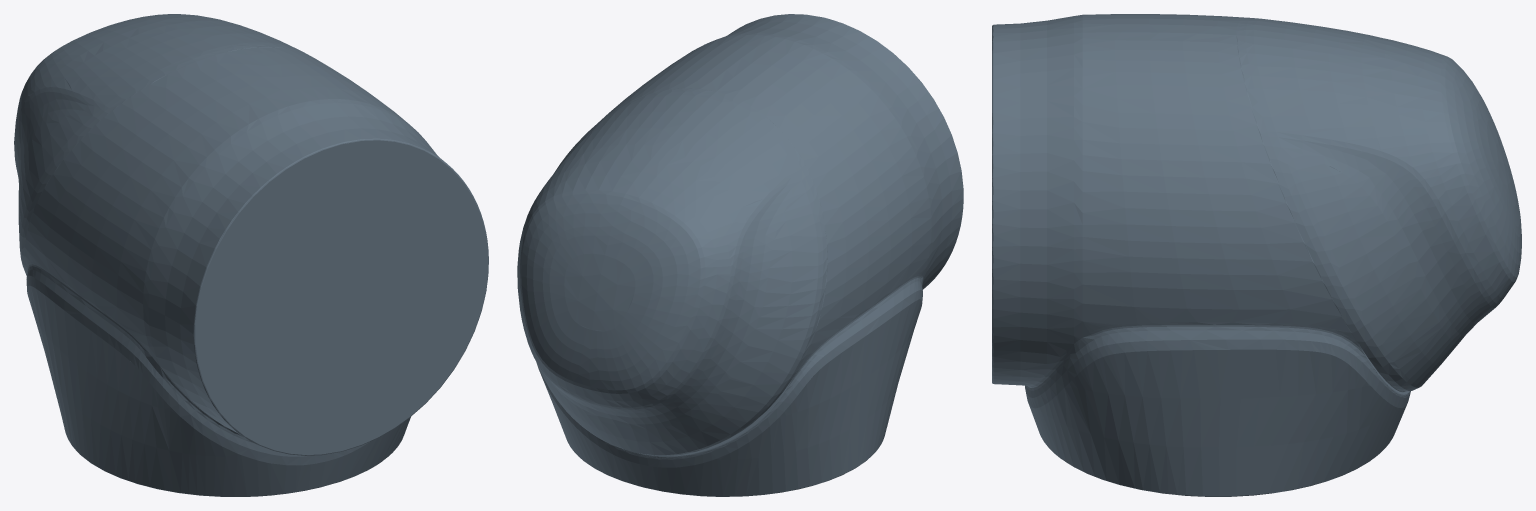
3 views of the same model, side by side, from view 1: azimuth 30°, elevation 25°; view 2: azimuth 150°, elevation 25°; view 3: azimuth 270°, elevation 25° (orthographic). The views are drawn at different scales.
Visible parts, largest first — view 1: H2017_4_1; view 2: H2017_4_1; view 3: H2017_4_1.
Part boxes in pixels (x1,y1,x2,y2): H2017_4_1: (14, 14, 488, 496); H2017_4_1: (517, 14, 963, 496); H2017_4_1: (992, 14, 1521, 496).
Bounding box in the file's own units: 143 × 193 × 156.
